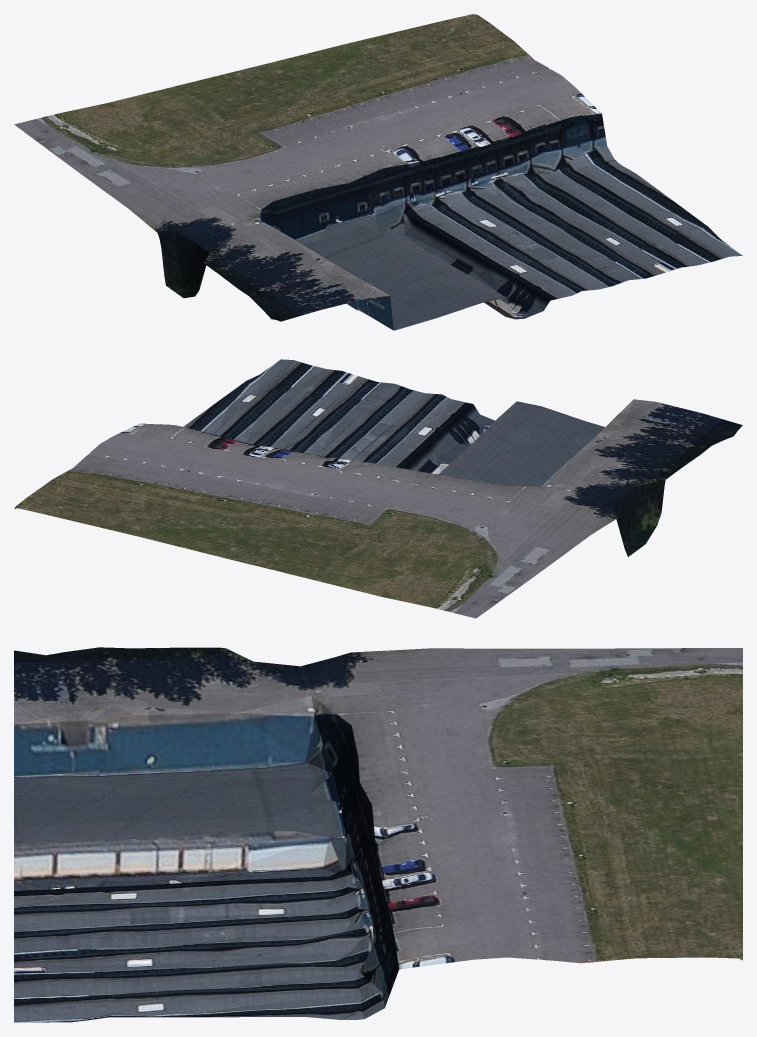
Rendered from map_15_8187_13781.dae.
The picture shows the model from 3 angles, top to bottom: view 1: azimuth 30°, elevation 25°; view 2: azimuth 150°, elevation 25°; view 3: azimuth 270°, elevation 25°; orthographic projection. The views are drawn at different scales.
Parts seen in each view (by area): view 1: Ter0; view 2: Ter0; view 3: Ter0.
Boxes of the visible parts, box(x1,y1,x2,y2) form: Ter0: box(14, 14, 742, 330); Ter0: box(14, 359, 742, 618); Ter0: box(14, 647, 742, 1022).
Bounding box in the file's own units: 63.87 × 63.88 × 8.73.
Materials: 3 (3 with a texture image).
